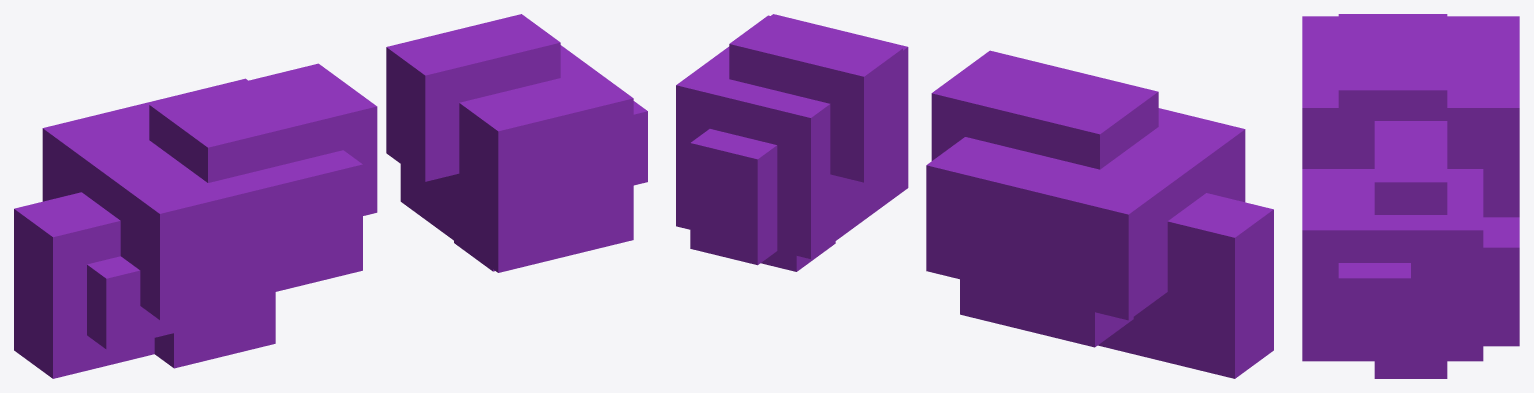
File: 2 asteroids.obj
3 renders of one model, left to right at view 1: azimuth 30°, elevation 25°; view 2: azimuth 150°, elevation 25°; view 3: azimuth 270°, elevation 25°, orthographic. The views are drawn at different scales.
Bounding box in the file's own units: 17 × 6 × 6.
Materials: 1 (1 with a texture image).
